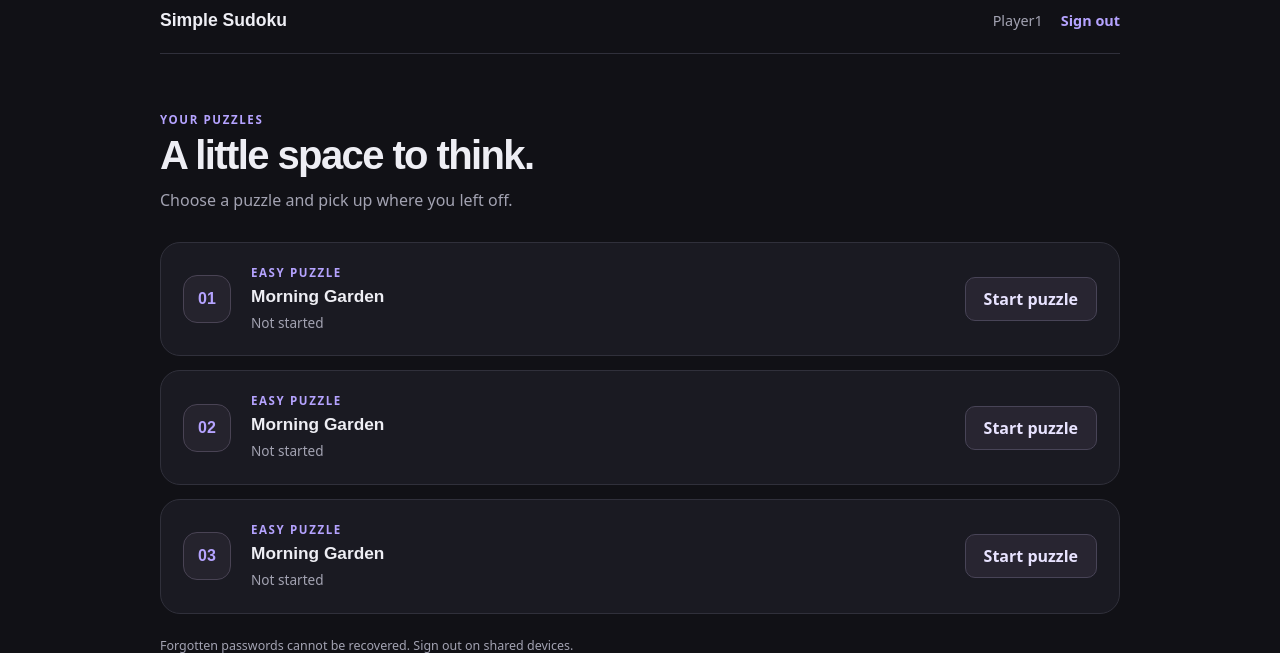
Scenario: player journey › retains editable entries when submission fails at the network
The width and height of the screenshot is (1280, 653).
Click the 1st button "Start puzzle": (1031,299) x1=965 y1=277 x2=1097 y2=321
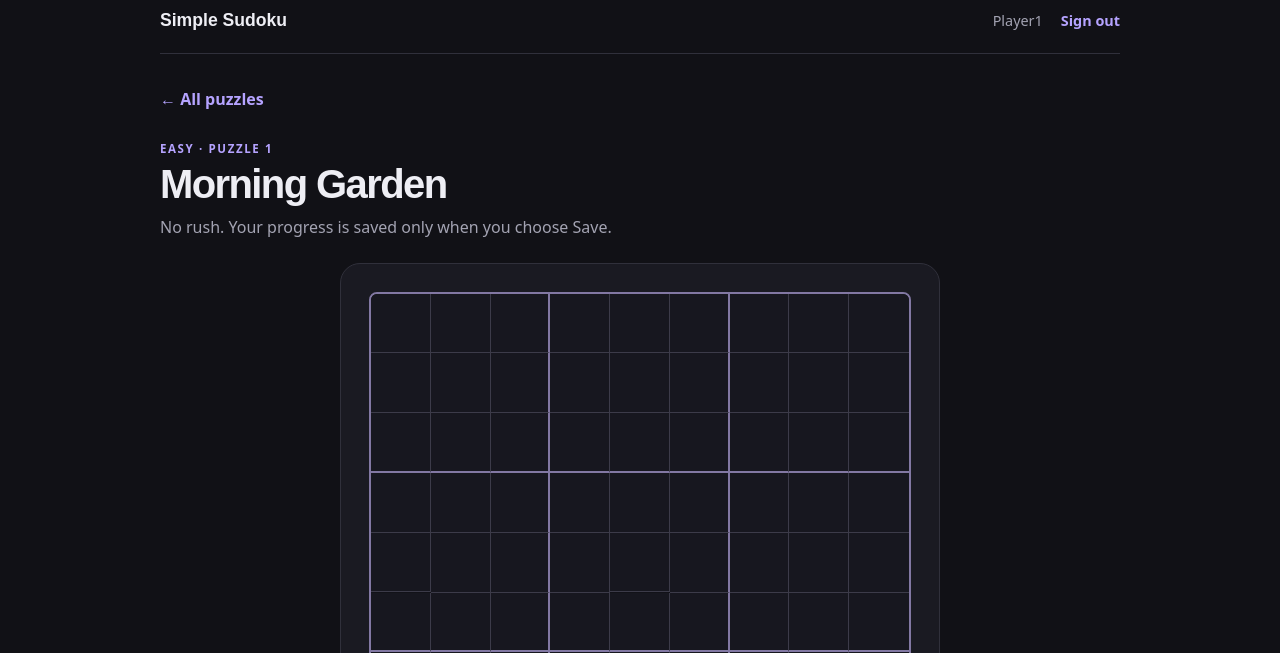
In the field named "Row 1, column 1": (401,324) x1=371 y1=294 x2=431 y2=353, type "8"
(page scrolled)
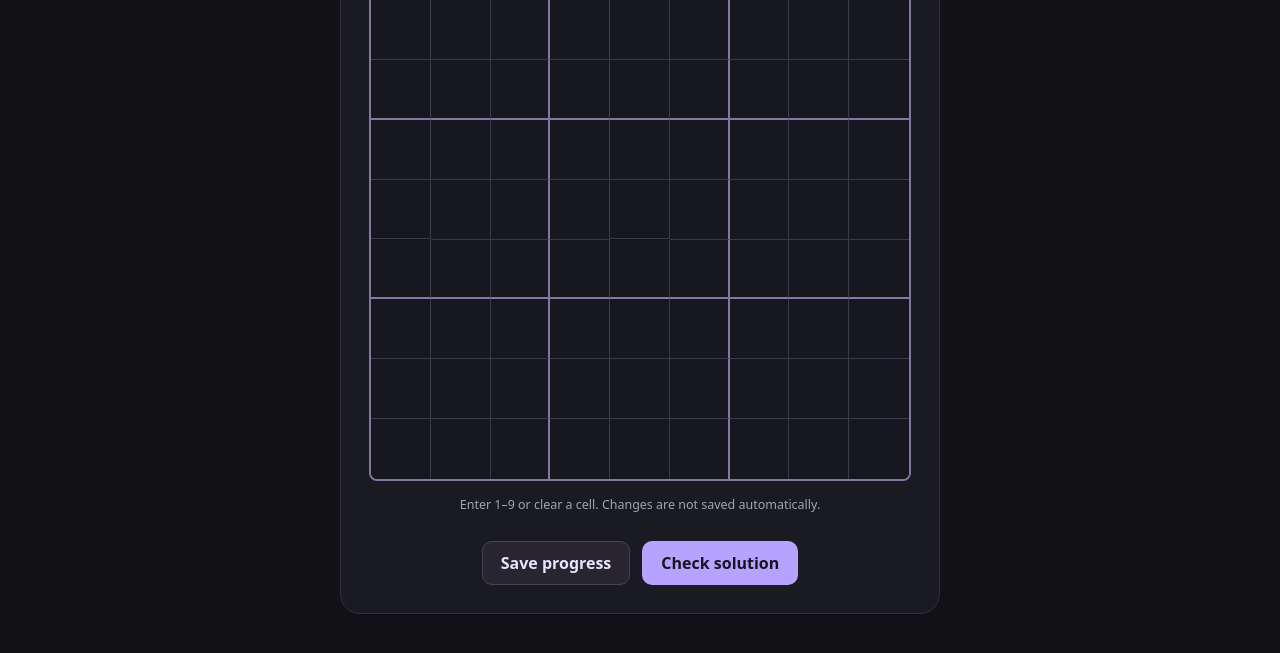
Click the button "Check solution": (720,563) x1=642 y1=541 x2=798 y2=585
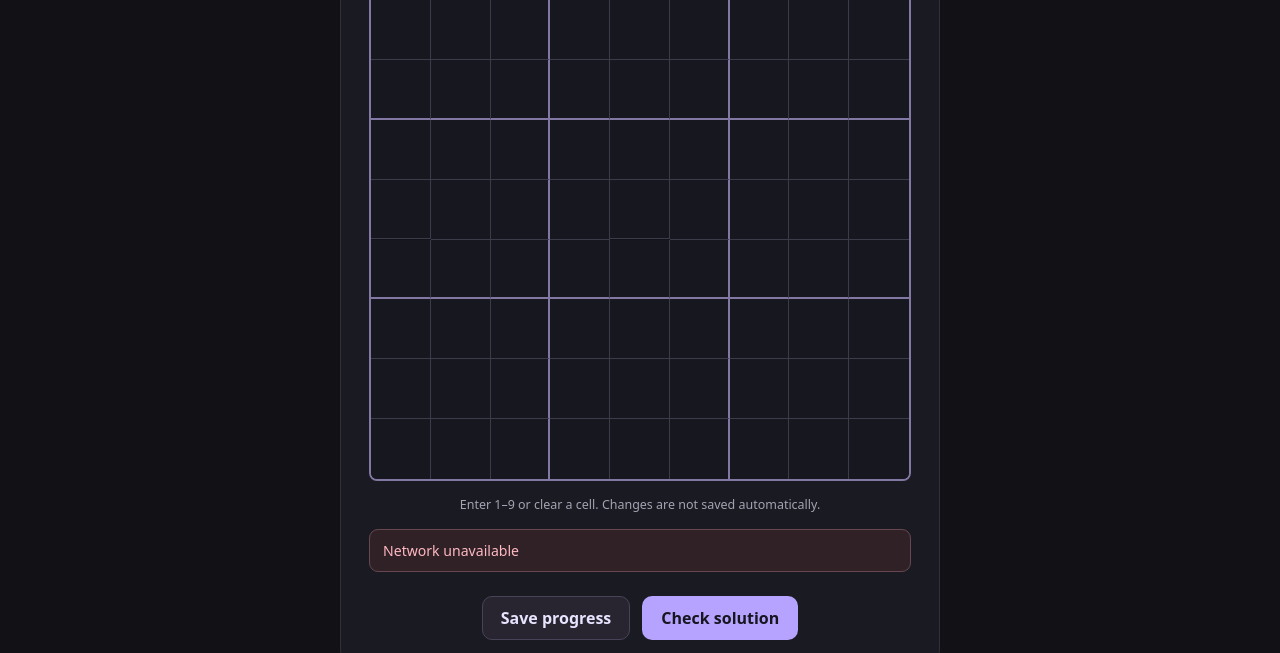
Now the button "Save progress" is enabled, box x1=482 y1=596 x2=630 y2=640
Now the message reads "Network unavailable", box x1=383 y1=541 x2=519 y2=560
